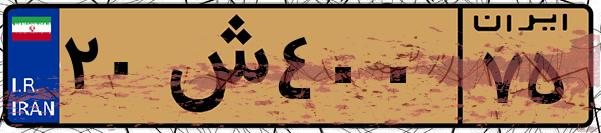0: (385, 28, 445, 110), (330, 28, 385, 110), (110, 28, 158, 98)
2: (57, 26, 110, 100)
4: (270, 28, 330, 110)
5: (525, 38, 570, 115)
7: (475, 38, 525, 113)
ش: (158, 12, 270, 120)
